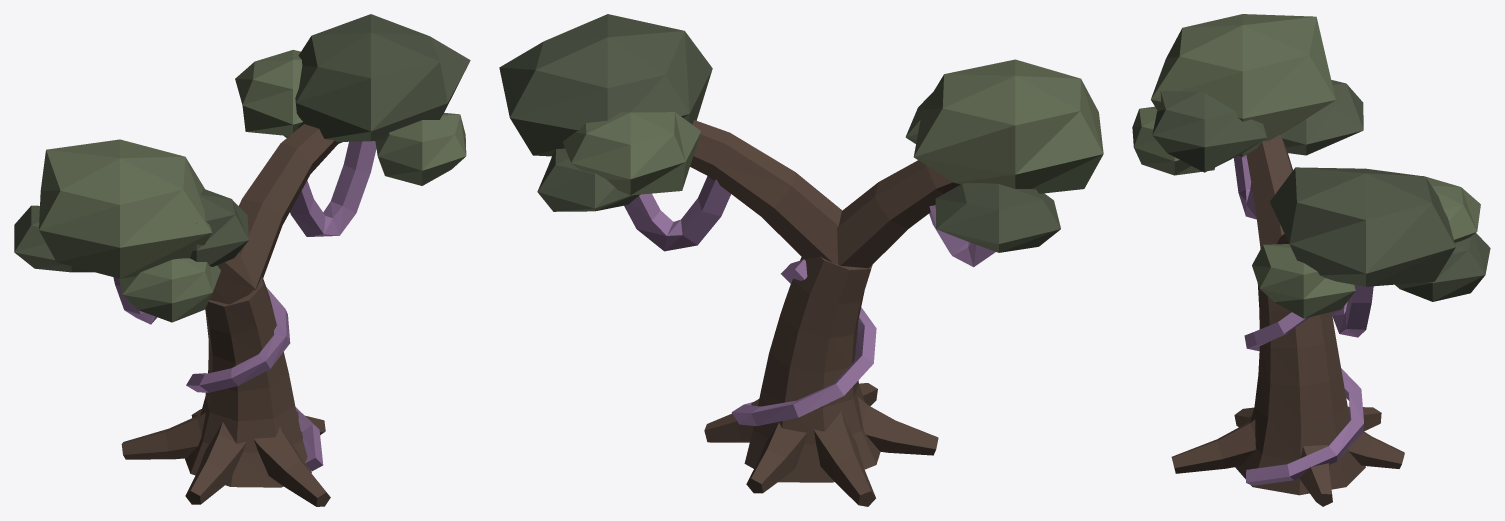
File: tree_polux_b.obj
The picture shows the model from 3 angles, left to right: view 1: azimuth 30°, elevation 25°; view 2: azimuth 150°, elevation 25°; view 3: azimuth 270°, elevation 25°; orthographic projection. The views are drawn at different scales.
Parts seen in each view (by area): view 1: tree_polux_b_8, tree_polux_b_13, tree_polux_b_5, tree_polux_b_12, tree_polux_b_16, tree_polux_b_14, tree_polux_b_10, tree_polux_b_18, tree_polux_b_6, tree_polux_b_9, tree_polux_b_4, tree_polux_b_3 (+3 smaller); view 2: tree_polux_b_8, tree_polux_b_13, tree_polux_b_5, tree_polux_b_12, tree_polux_b_14, tree_polux_b_11, tree_polux_b_7, tree_polux_b_6, tree_polux_b_18, tree_polux_b_15, tree_polux_b_2, tree_polux_b_3 (+3 smaller); view 3: tree_polux_b_13, tree_polux_b_8, tree_polux_b_5, tree_polux_b_9, tree_polux_b_16, tree_polux_b_6, tree_polux_b_11, tree_polux_b_7, tree_polux_b_15, tree_polux_b_4, tree_polux_b_10, tree_polux_b_14 (+4 smaller).
Part boxes in pixels (box(x1,y1,x2,y2)): tree_polux_b_8: box(39, 139, 211, 278); tree_polux_b_13: box(295, 14, 470, 141); tree_polux_b_5: box(185, 277, 311, 487); tree_polux_b_12: box(239, 124, 339, 290); tree_polux_b_16: box(375, 113, 466, 185); tree_polux_b_14: box(235, 50, 302, 135); tree_polux_b_10: box(119, 258, 220, 322); tree_polux_b_18: box(290, 141, 376, 236); tree_polux_b_6: box(186, 287, 323, 471); tree_polux_b_9: box(190, 189, 248, 266); tree_polux_b_4: box(253, 427, 330, 506); tree_polux_b_3: box(185, 422, 246, 504); tree_polux_b_8: box(913, 59, 1103, 193); tree_polux_b_13: box(499, 14, 712, 156); tree_polux_b_5: box(744, 256, 880, 482); tree_polux_b_12: box(690, 120, 841, 264); tree_polux_b_14: box(562, 111, 701, 195); tree_polux_b_11: box(935, 182, 1060, 252); tree_polux_b_7: box(837, 160, 960, 268); tree_polux_b_6: box(731, 259, 876, 425); tree_polux_b_18: box(624, 176, 730, 251); tree_polux_b_15: box(537, 148, 639, 211); tree_polux_b_2: box(813, 411, 875, 506); tree_polux_b_3: box(857, 396, 938, 455); tree_polux_b_13: box(1270, 167, 1455, 286); tree_polux_b_8: box(1151, 14, 1335, 156); tree_polux_b_5: box(1235, 283, 1365, 495); tree_polux_b_9: box(1152, 85, 1266, 172); tree_polux_b_16: box(1252, 244, 1355, 318); tree_polux_b_6: box(1244, 312, 1363, 485); tree_polux_b_11: box(1280, 80, 1363, 155); tree_polux_b_7: box(1246, 134, 1292, 248); tree_polux_b_15: box(1395, 233, 1490, 301); tree_polux_b_4: box(1171, 419, 1255, 473); tree_polux_b_10: box(1132, 106, 1214, 175); tree_polux_b_14: box(1423, 176, 1480, 242).
Bounding box in the file's own units: 1.2 × 0.861 × 0.755.
